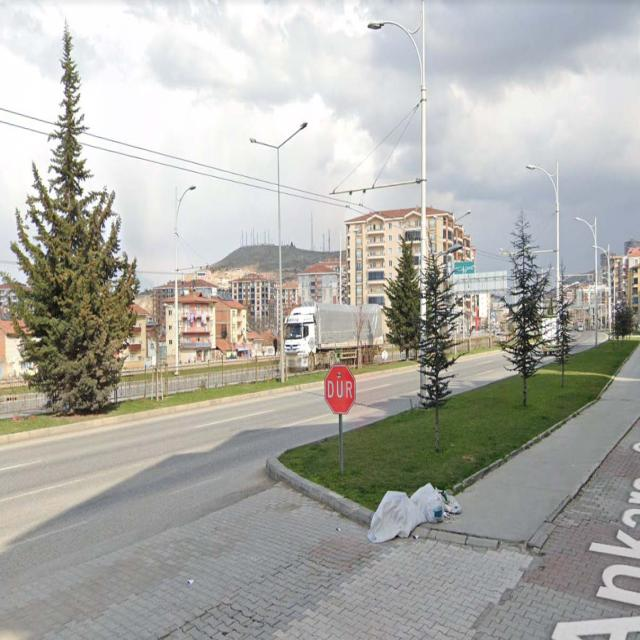dur: (324, 364, 356, 413)
